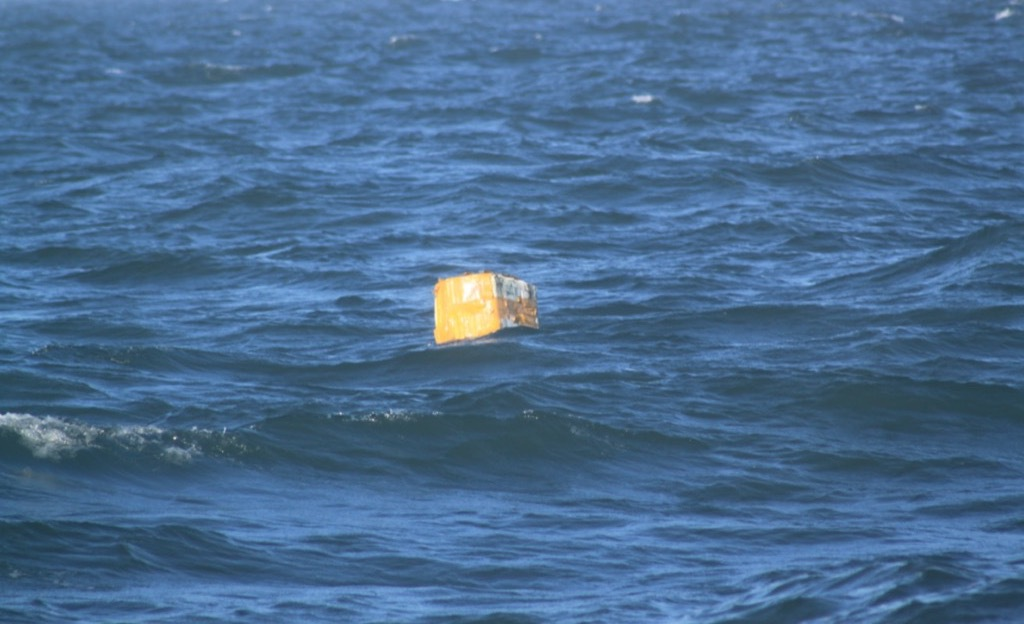plastic: (398, 251, 569, 374)
